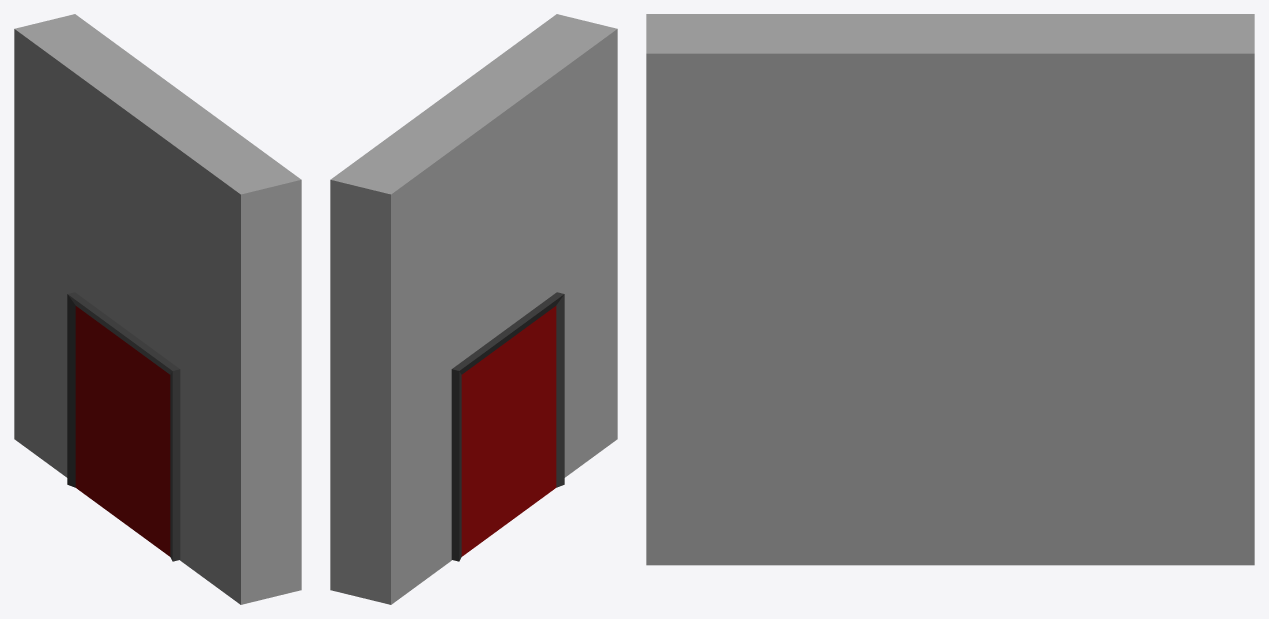
File: Door.fbx
3 views of the same model, side by side, from view 1: azimuth 30°, elevation 25°; view 2: azimuth 150°, elevation 25°; view 3: azimuth 270°, elevation 25° (orthographic). The views are drawn at different scales.
Visible parts, largest first — view 1: pCube24; view 2: pCube24; view 3: pCube24.
Part boxes in pixels (x1,y1,x2,y2): pCube24: (14, 14, 301, 604); pCube24: (330, 14, 617, 604); pCube24: (646, 14, 1254, 565).
Bounding box in the file's own units: 1.12 × 6.46 × 6.46.
